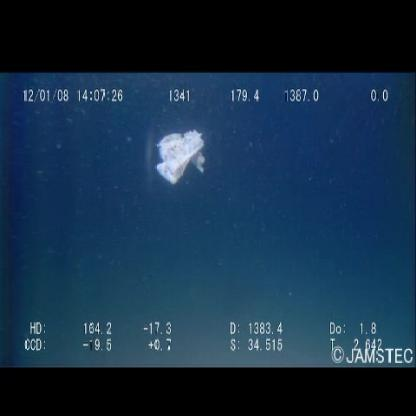Rác: (152, 124, 210, 192)
